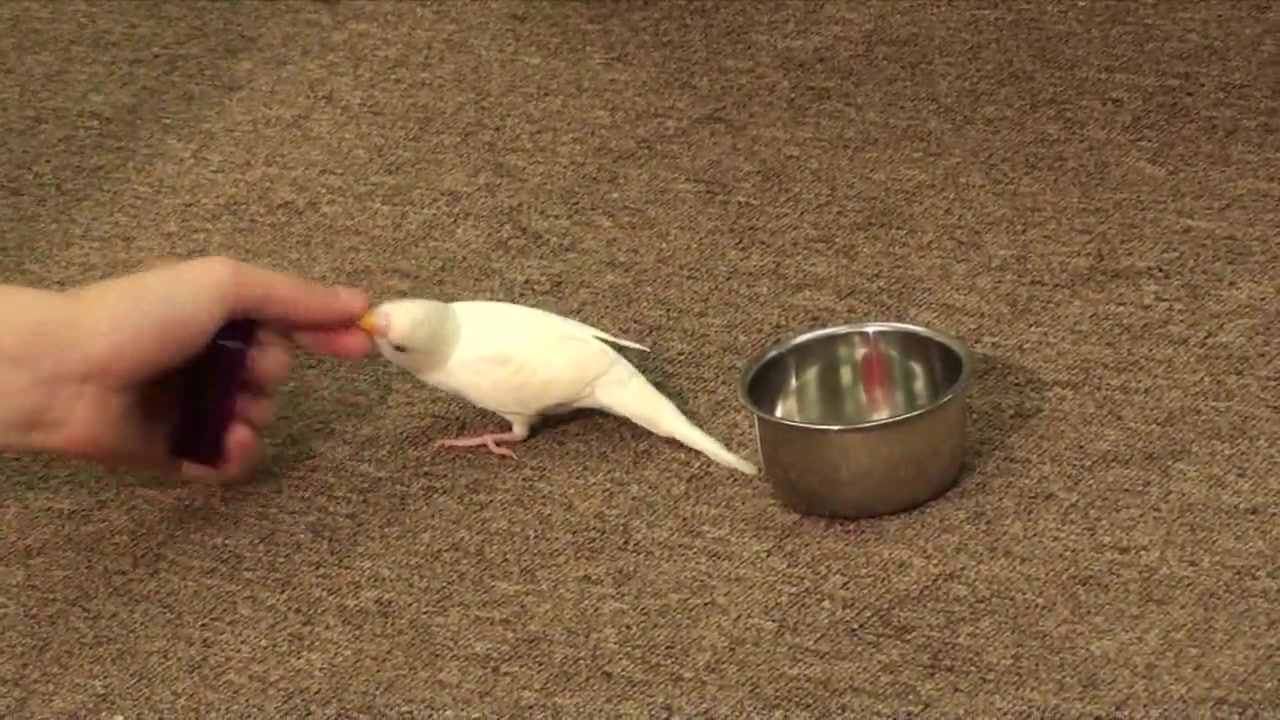bird: (357, 298, 762, 478)
